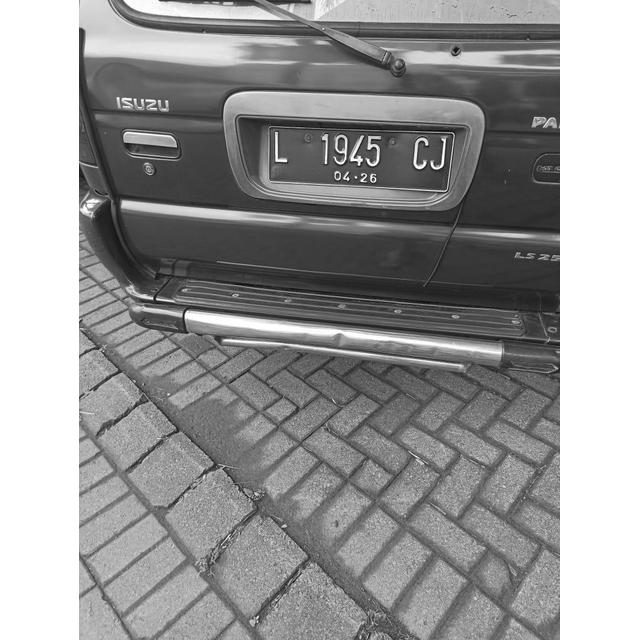license: (271, 128, 448, 187)
